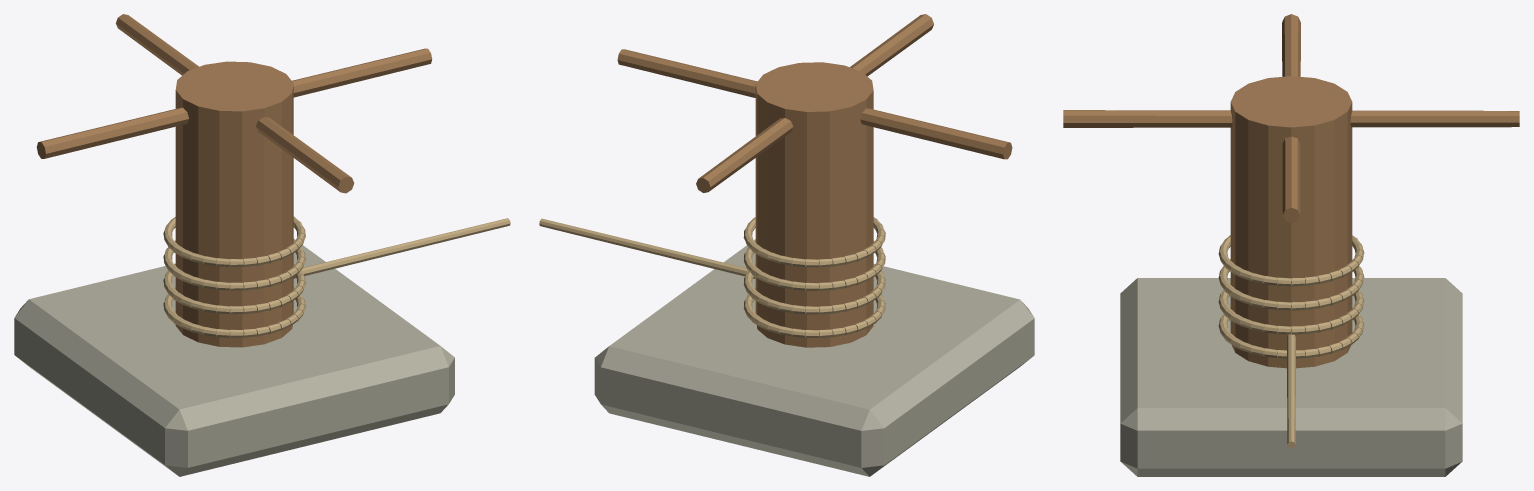
3 renders of one model, left to right at view 1: azimuth 30°, elevation 25°; view 2: azimuth 150°, elevation 25°; view 3: azimuth 270°, elevation 25°, orthographic. The views are drawn at different scales.
Visible parts, largest first — view 1: CE-033 Crossbar timber hauling capstan batched; view 2: CE-033 Crossbar timber hauling capstan batched; view 3: CE-033 Crossbar timber hauling capstan batched.
Part boxes in pixels (x1,y1,x2,y2): CE-033 Crossbar timber hauling capstan batched: [14, 14, 510, 476]; CE-033 Crossbar timber hauling capstan batched: [539, 14, 1034, 476]; CE-033 Crossbar timber hauling capstan batched: [1063, 14, 1519, 476].
Size of the model in its own units: 1.45 by 0.9 by 1.2.
